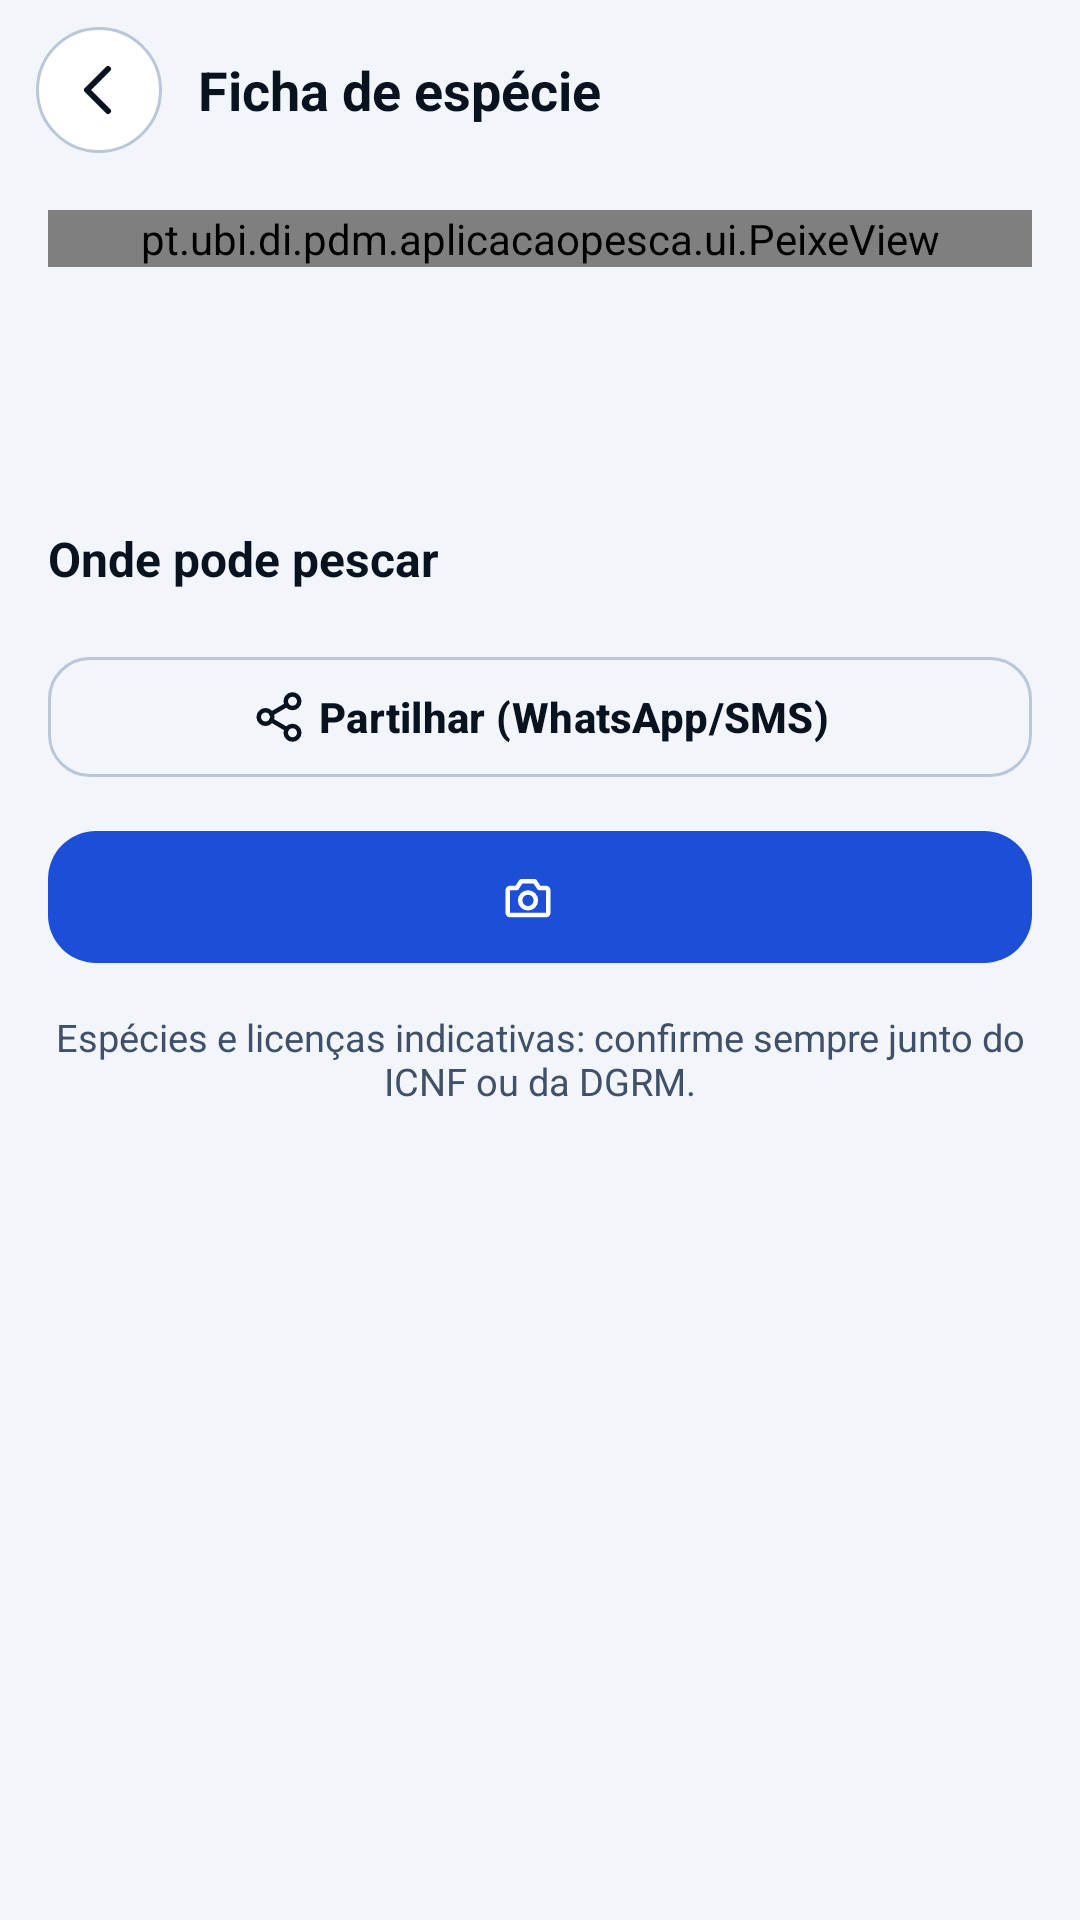

Screen size 1080px×1920px. Icon name, then its center in pixels as (x=x, y=y):
Voltar: (x=99, y=90)
